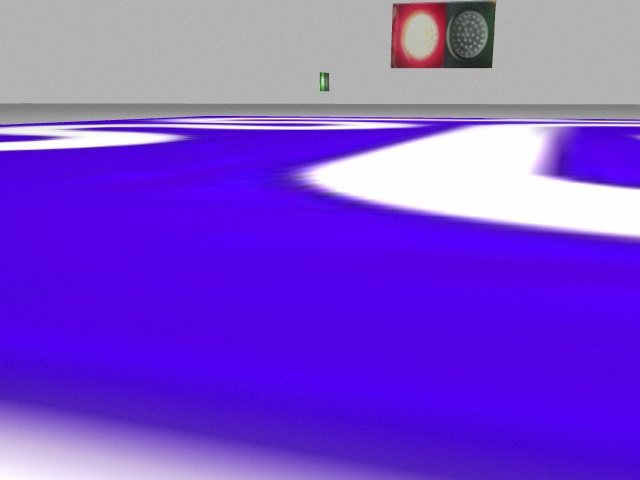red: (392, 5, 448, 70)
